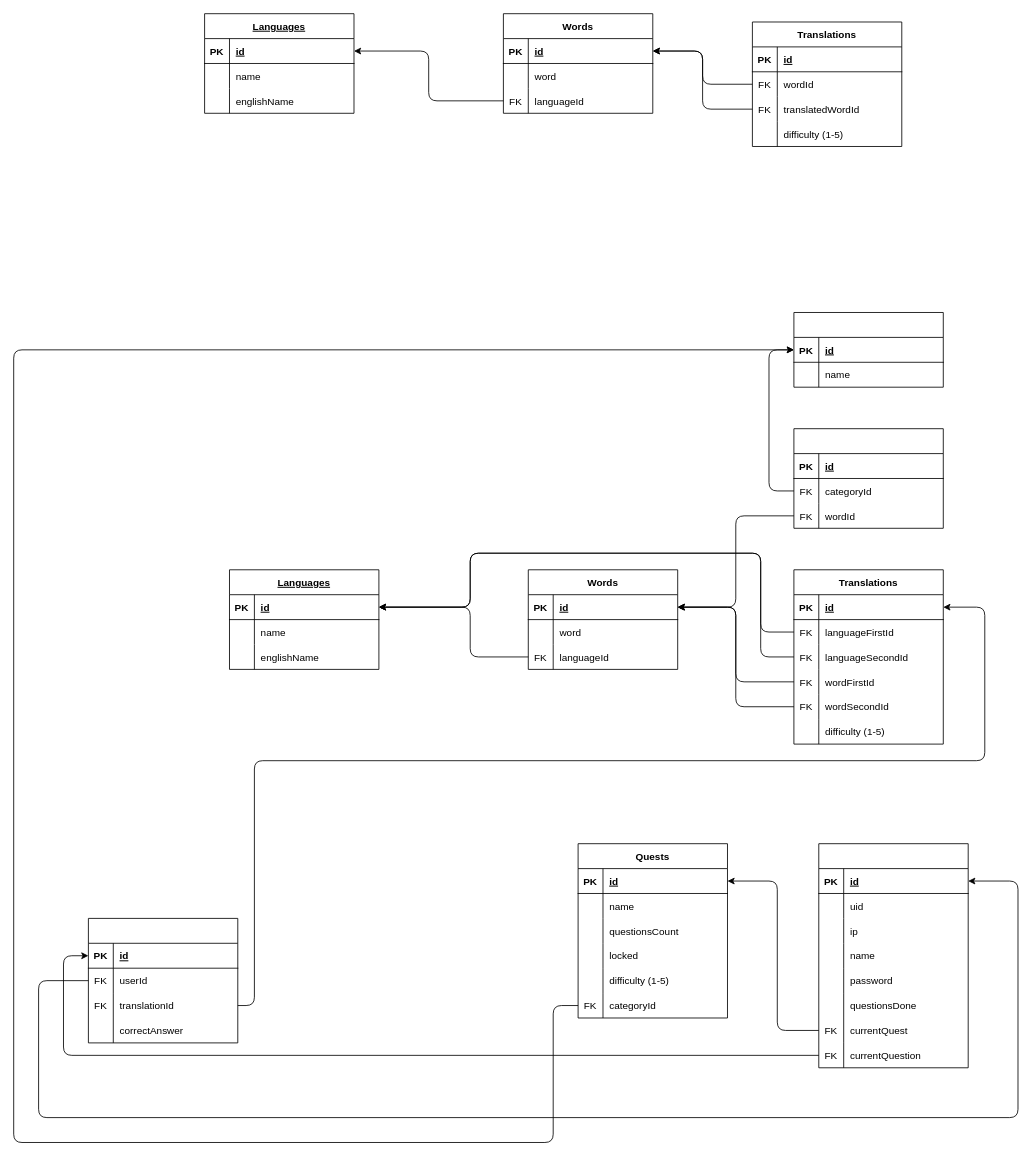
Some shapes in this 1032 by 1156 pixel diagram are drawn without their labels. Here are the shapes that lost their labels. From the top down, the box of each, then its label:
(793, 312, 943, 387): QuestCategories
(793, 428, 943, 528): WordQuestCategories
(818, 843, 968, 1068): Users
(88, 918, 238, 1043): UserQuestions
